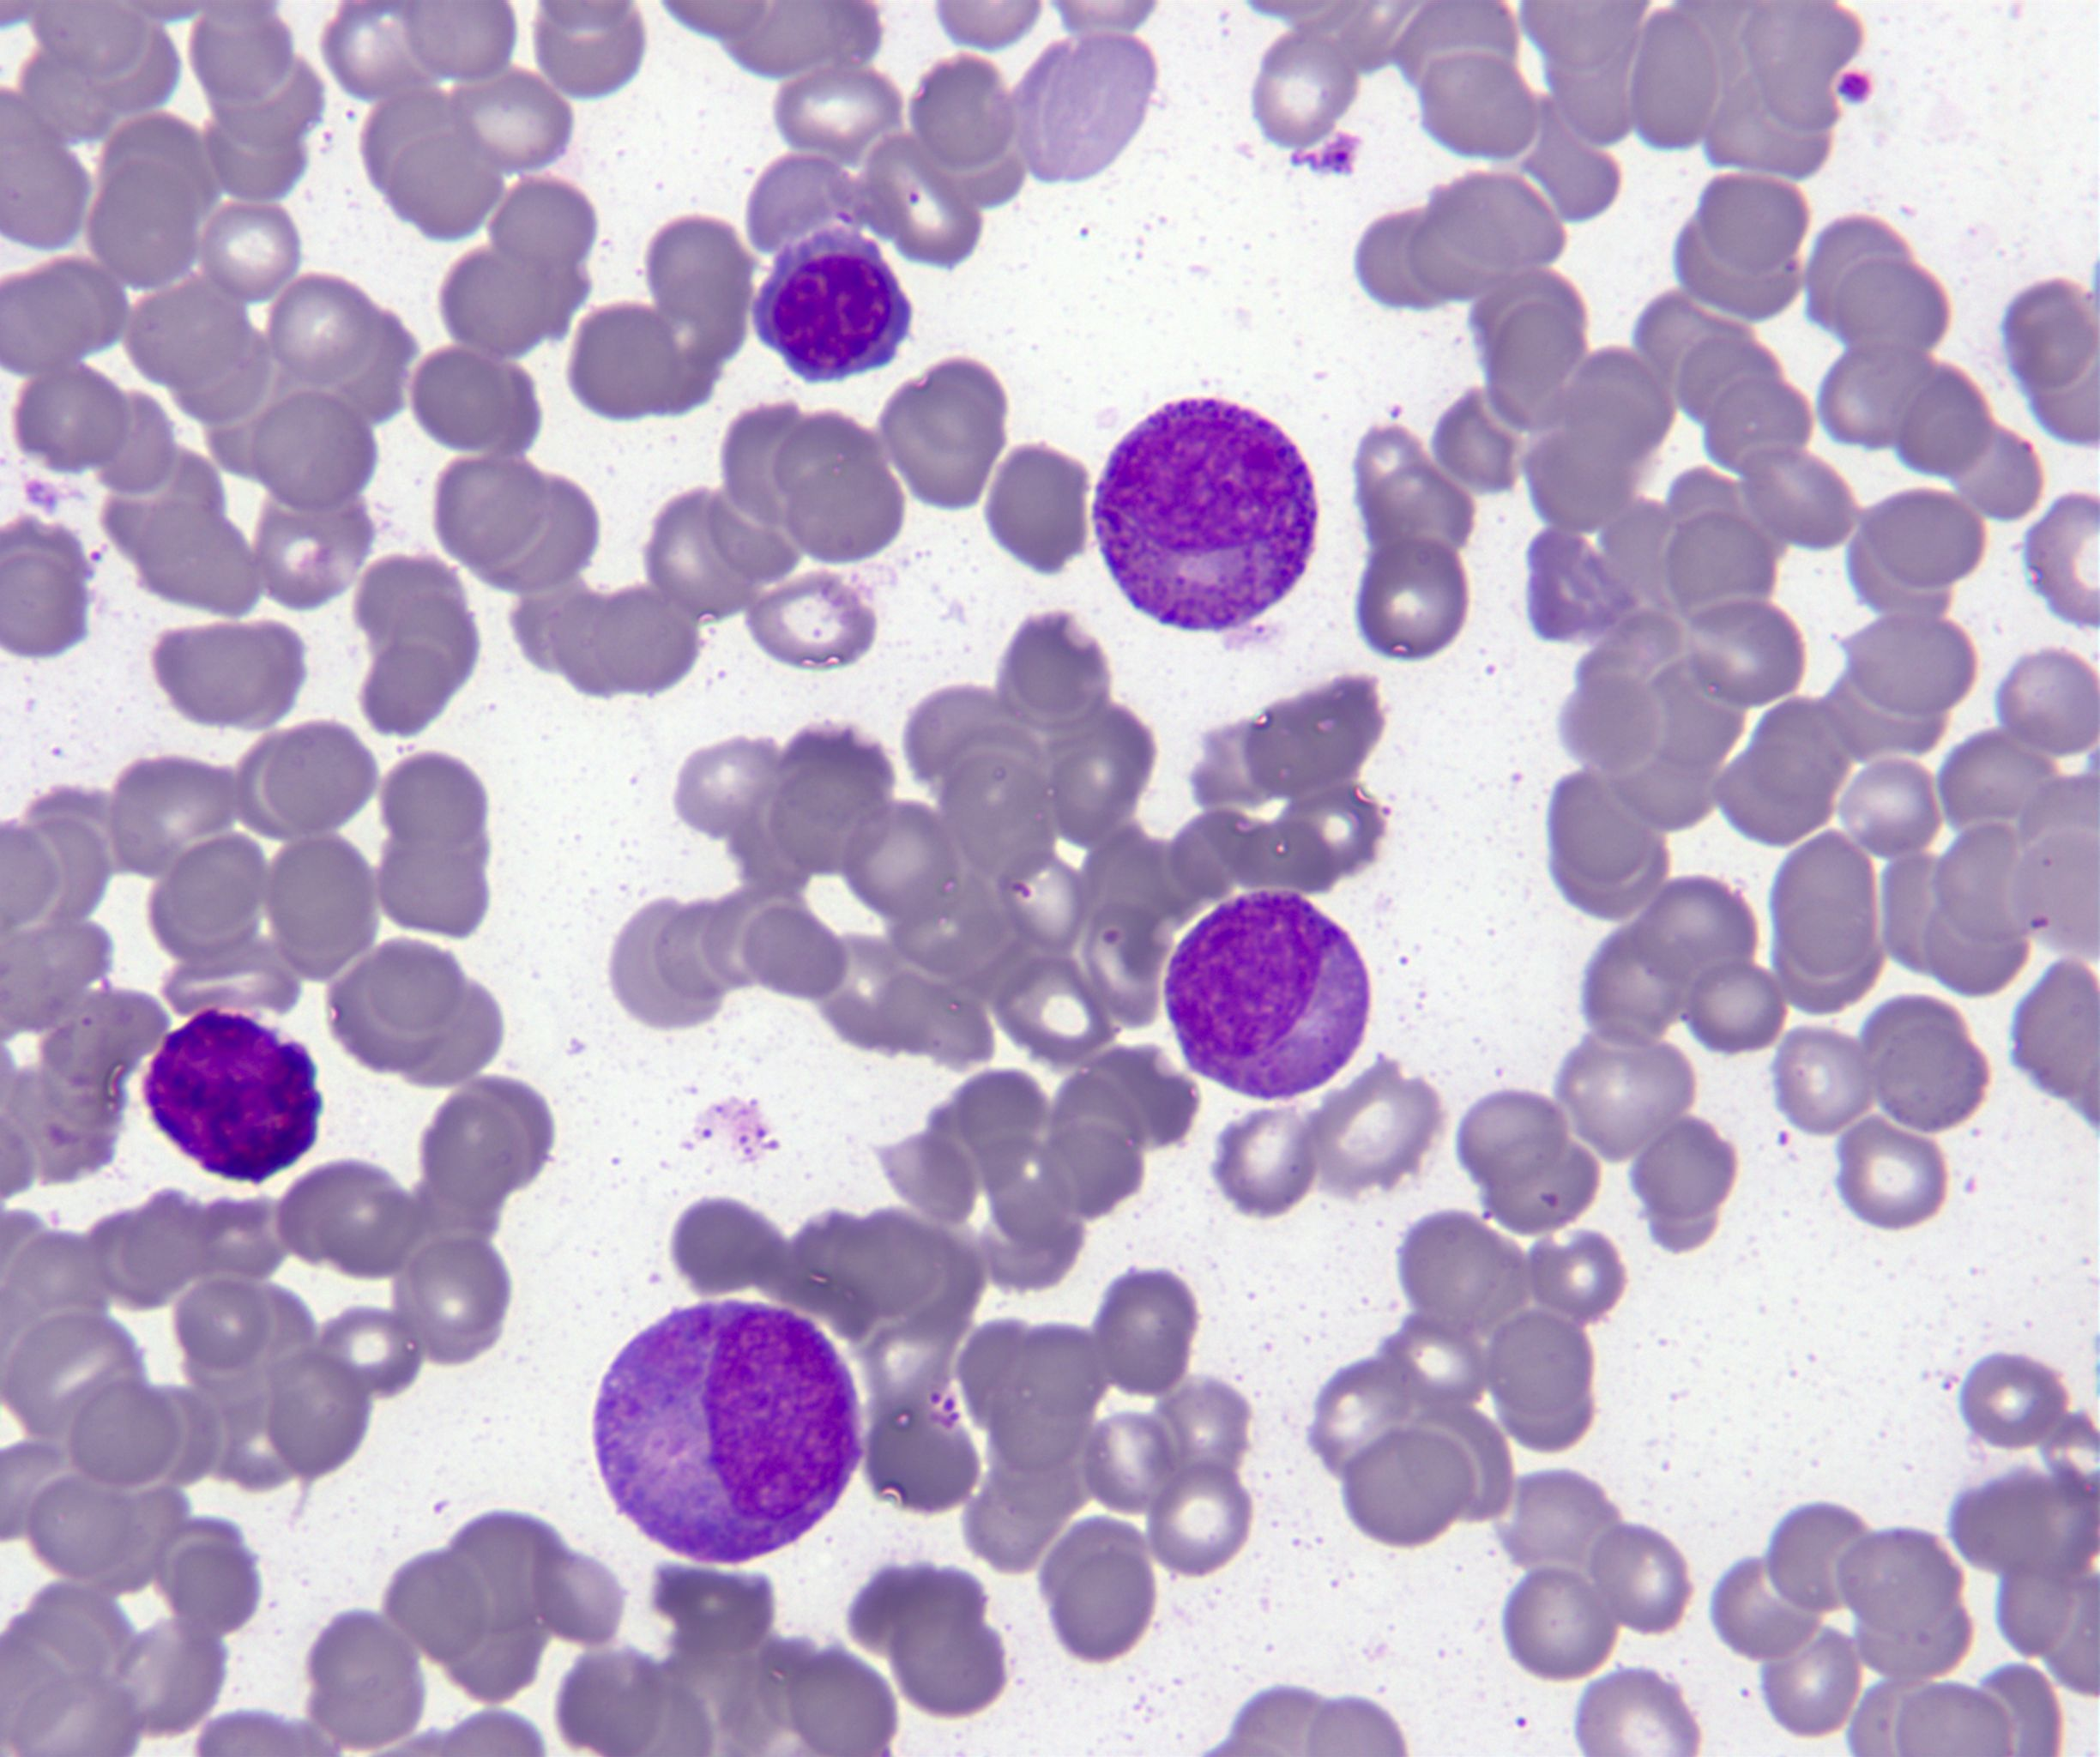23: (753, 229, 909, 382)
3: (597, 1302, 860, 1567), (1095, 398, 1317, 632), (1163, 893, 1366, 1096)
B4: (145, 1012, 323, 1183)
